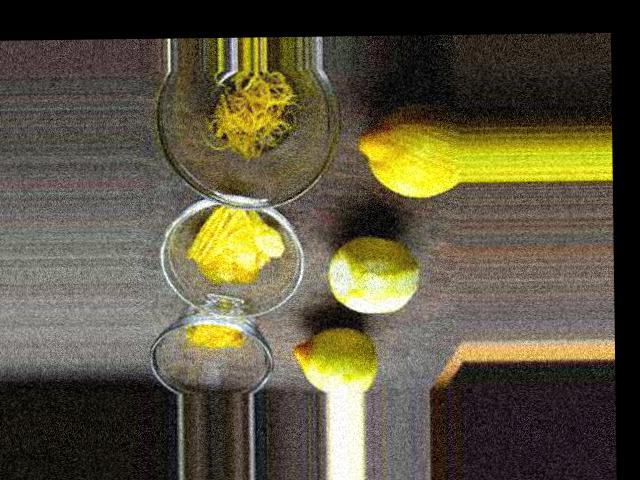lemon: (352, 114, 459, 201)
